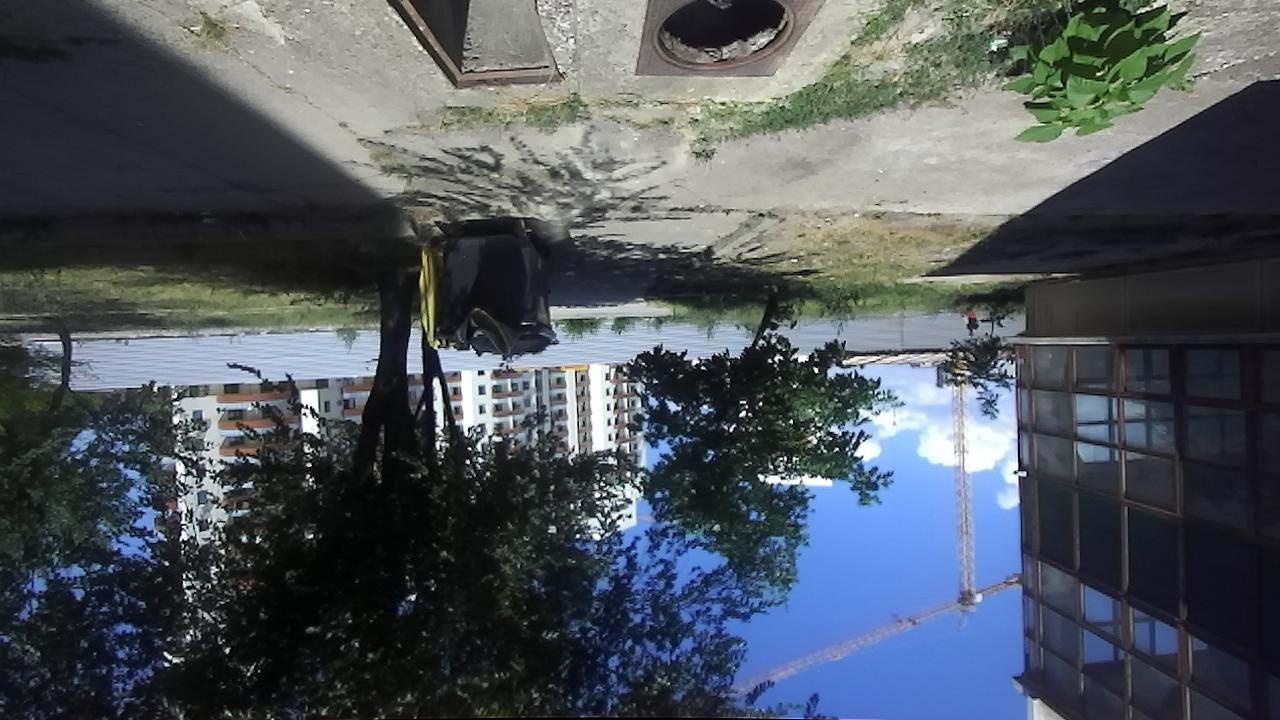drain: (385, 0, 566, 92), (646, 0, 803, 76)
